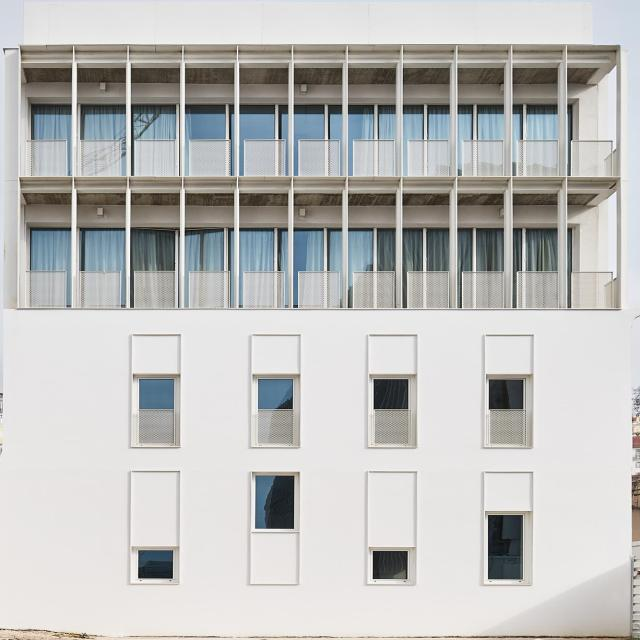railing: (30, 272, 618, 308), (29, 143, 614, 175), (254, 410, 305, 446), (487, 410, 531, 447), (375, 409, 417, 447), (136, 412, 181, 443)
window: (486, 516, 526, 584), (251, 478, 296, 533), (403, 230, 451, 273), (295, 230, 340, 274), (80, 230, 126, 273), (515, 229, 558, 274), (131, 230, 175, 273), (187, 231, 232, 273), (240, 231, 285, 273), (351, 230, 394, 273), (459, 230, 503, 272), (30, 228, 70, 274), (186, 107, 235, 142), (241, 107, 291, 141), (403, 108, 451, 141), (350, 107, 395, 142), (133, 377, 179, 411), (295, 106, 341, 140), (82, 105, 125, 140), (516, 107, 557, 141), (134, 108, 176, 141), (461, 108, 503, 141), (132, 552, 176, 582), (31, 106, 69, 140), (370, 379, 410, 410), (490, 378, 525, 412), (371, 552, 406, 584), (261, 380, 296, 409)
